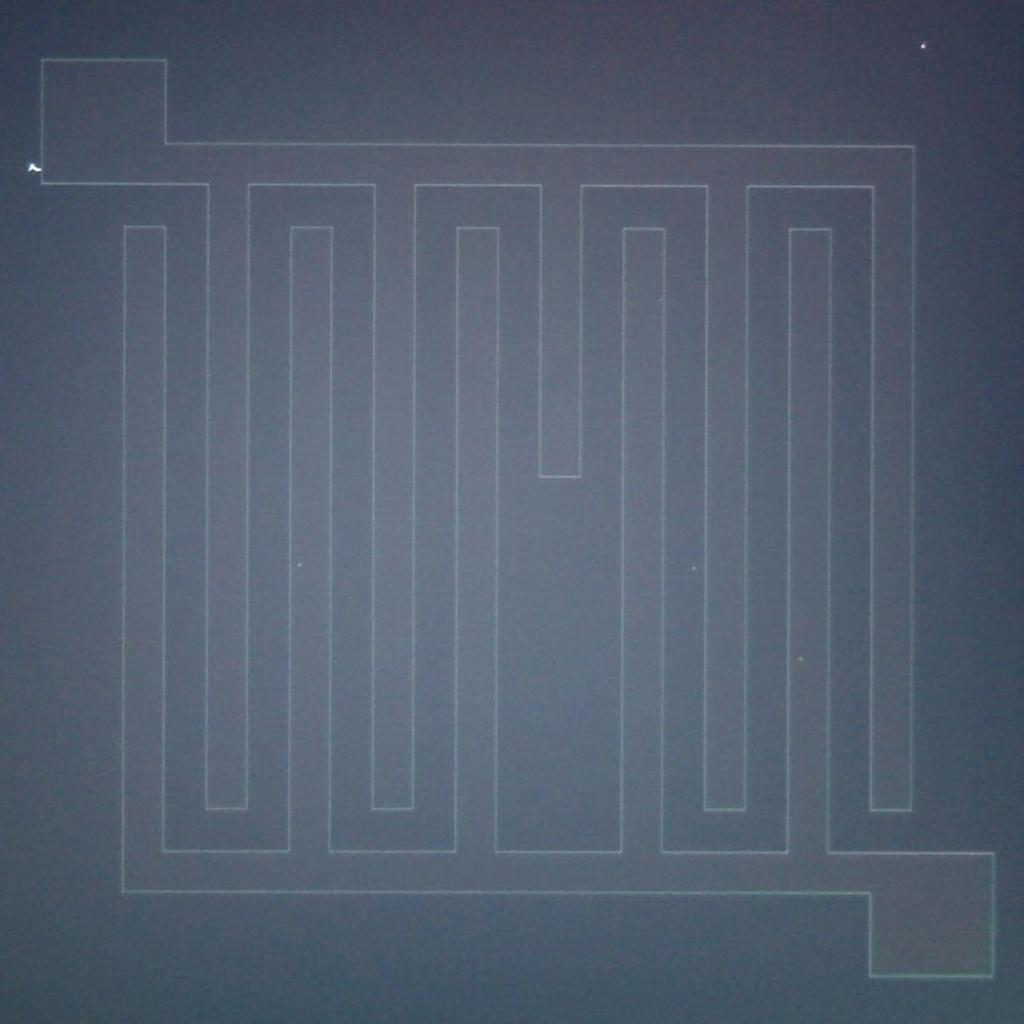dot: (29, 162, 40, 175), (692, 566, 696, 572), (920, 44, 924, 48), (297, 562, 301, 566), (799, 657, 803, 661)
